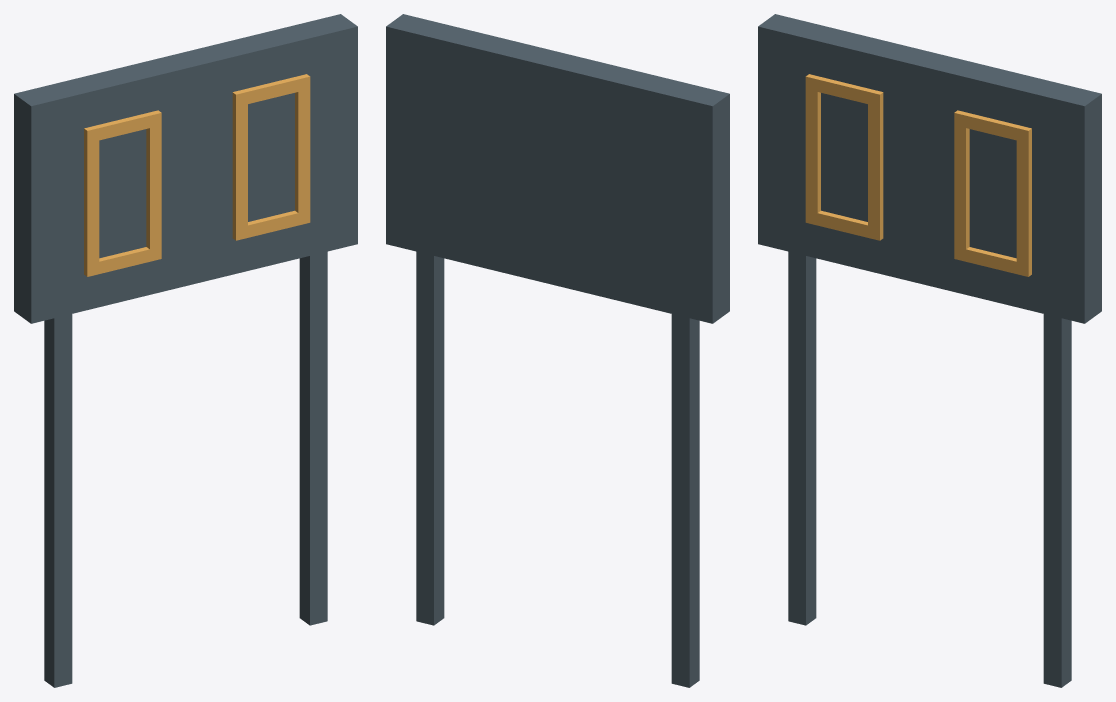
The model's file is american-football-stadium-kit-play-clock-902ed037__22340.glb.
3 views of the same model, side by side, from view 1: azimuth 30°, elevation 25°; view 2: azimuth 150°, elevation 25°; view 3: azimuth 330°, elevation 25° (orthographic).
Parts seen in each view (by area): view 1: play-clock; view 2: play-clock; view 3: play-clock.
Part boxes in pixels (x1=…): play-clock: x1=14, y1=14, x2=357, y2=687; play-clock: x1=386, y1=14, x2=729, y2=687; play-clock: x1=758, y1=14, x2=1101, y2=687.
Size of the model in its own units: 1.1 by 1.9 by 0.125.
